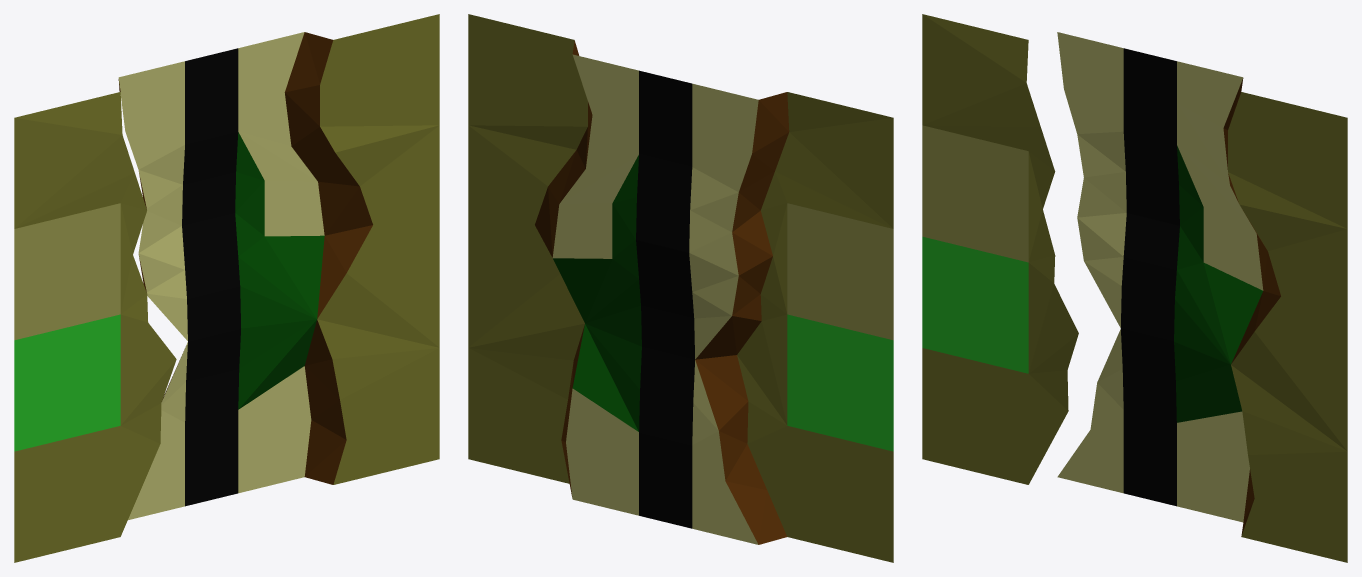
Rendered from tiles1_16.obj.
3 renders of one model, left to right at view 1: azimuth 30°, elevation 25°; view 2: azimuth 150°, elevation 25°; view 3: azimuth 330°, elevation 25°, orthographic.
Size of the model in its own units: 40.96 by 40.96 by 3.55.
